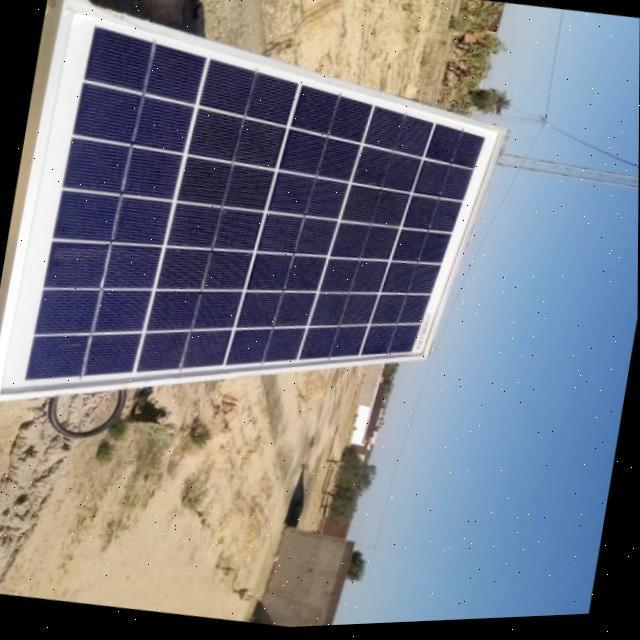Normal Solar Panel: (0, 0, 518, 472)
